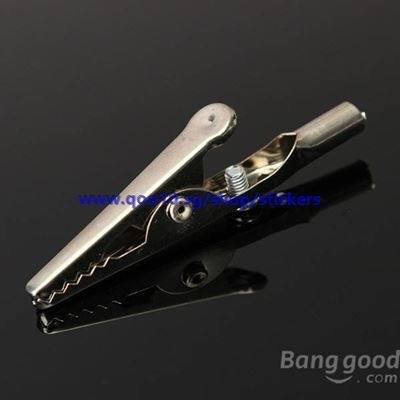metal: (24, 98, 369, 311)
